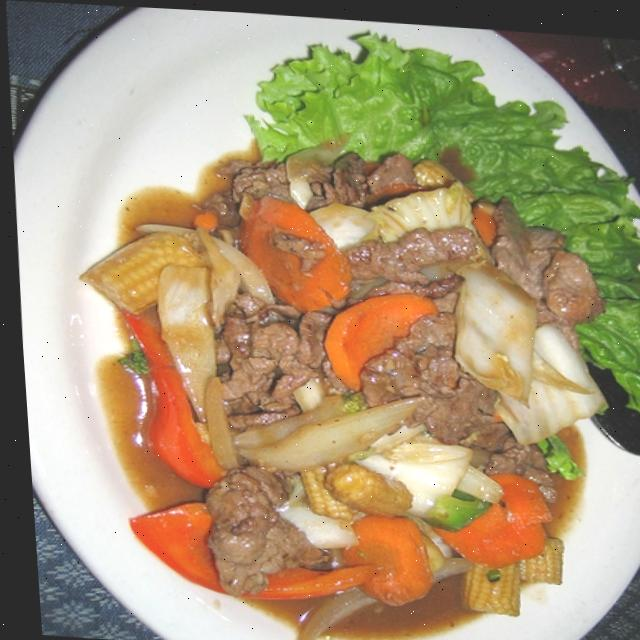牛肉菜式: (37, 67, 640, 640)
